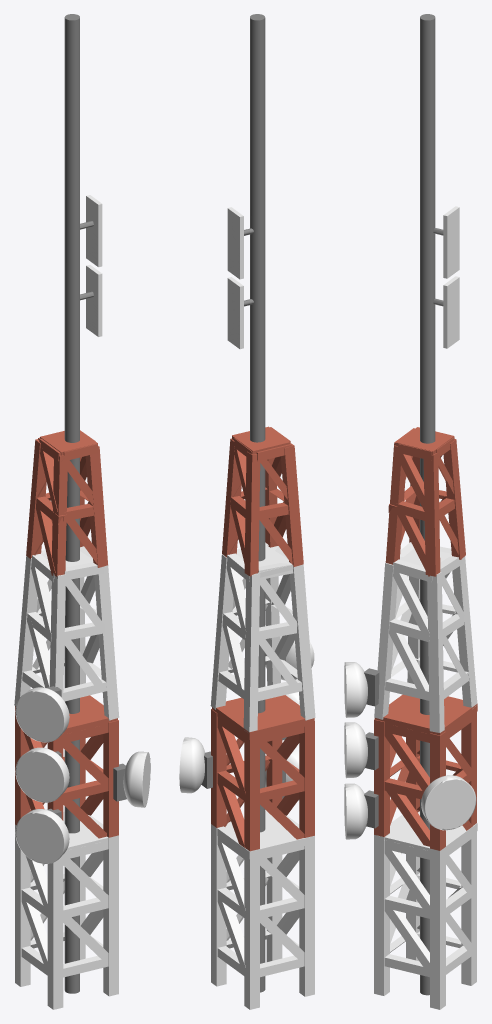
Rendered from tower_antenna.glb.
3 views of the same model, side by side, from view 1: azimuth 30°, elevation 25°; view 2: azimuth 210°, elevation 25°; view 3: azimuth 330°, elevation 25° (orthographic).
Bounding box in the file's own units: 4.53 × 31.51 × 3.4.
